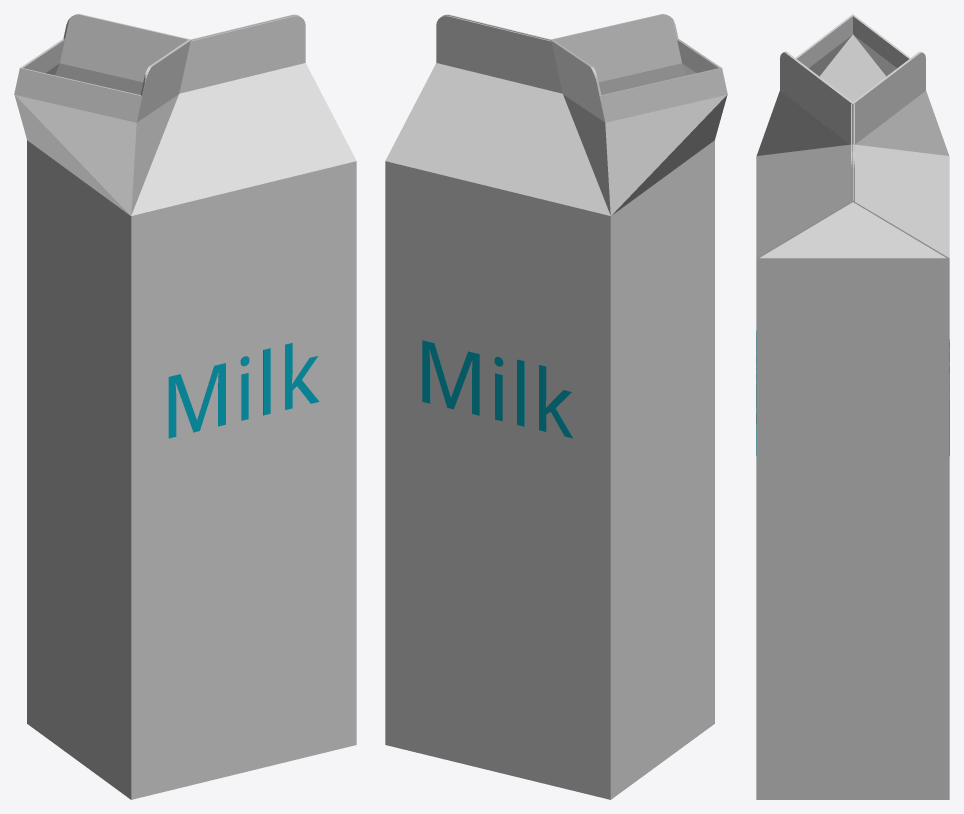
File: milk.glb
3 renders of one model, left to right at view 1: azimuth 30°, elevation 25°; view 2: azimuth 150°, elevation 25°; view 3: azimuth 270°, elevation 25°, orthographic. The views are drawn at different scales.
Parts seen in each view (by area): view 1: Mesh_Mesh_head_geo.001_lambert2SG.001; view 2: Mesh_Mesh_head_geo.001_lambert2SG.001; view 3: Mesh_Mesh_head_geo.001_lambert2SG.001.
Part boxes in pixels (left/top/right/bottom): Mesh_Mesh_head_geo.001_lambert2SG.001: left=14, top=14, right=356, bottom=799; Mesh_Mesh_head_geo.001_lambert2SG.001: left=385, top=14, right=727, bottom=799; Mesh_Mesh_head_geo.001_lambert2SG.001: left=756, top=14, right=949, bottom=799.
Bounding box in the file's own units: 0.0273 × 0.064 × 0.017.
